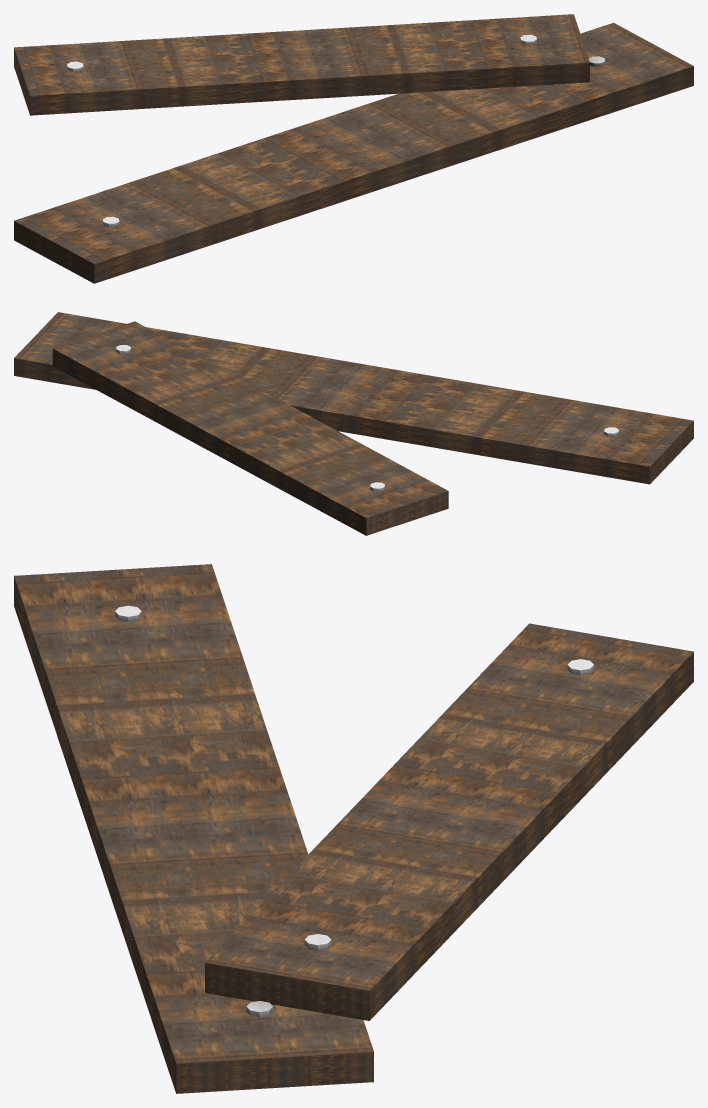
File: planks.glb
3 views of the same model, one above another, from view 1: azimuth 30°, elevation 25°; view 2: azimuth 150°, elevation 25°; view 3: azimuth 270°, elevation 25° (orthographic). The views are drawn at different scales.
Visible parts, largest first — view 1: DK_Plank_A, DK_Plank_B; view 2: DK_Plank_A, DK_Plank_B; view 3: DK_Plank_A, DK_Plank_B.
Part boxes in pixels (x1,y1,x2,y2): DK_Plank_A: (14,22,693,283); DK_Plank_B: (14,14,589,115); DK_Plank_A: (14,312,693,484); DK_Plank_B: (52,321,448,535); DK_Plank_A: (14,564,373,1093); DK_Plank_B: (205,623,693,1020).
Size of the model in its own units: 1.06 by 0.065 by 0.6125.
Materials: 2 (1 with a texture image).
